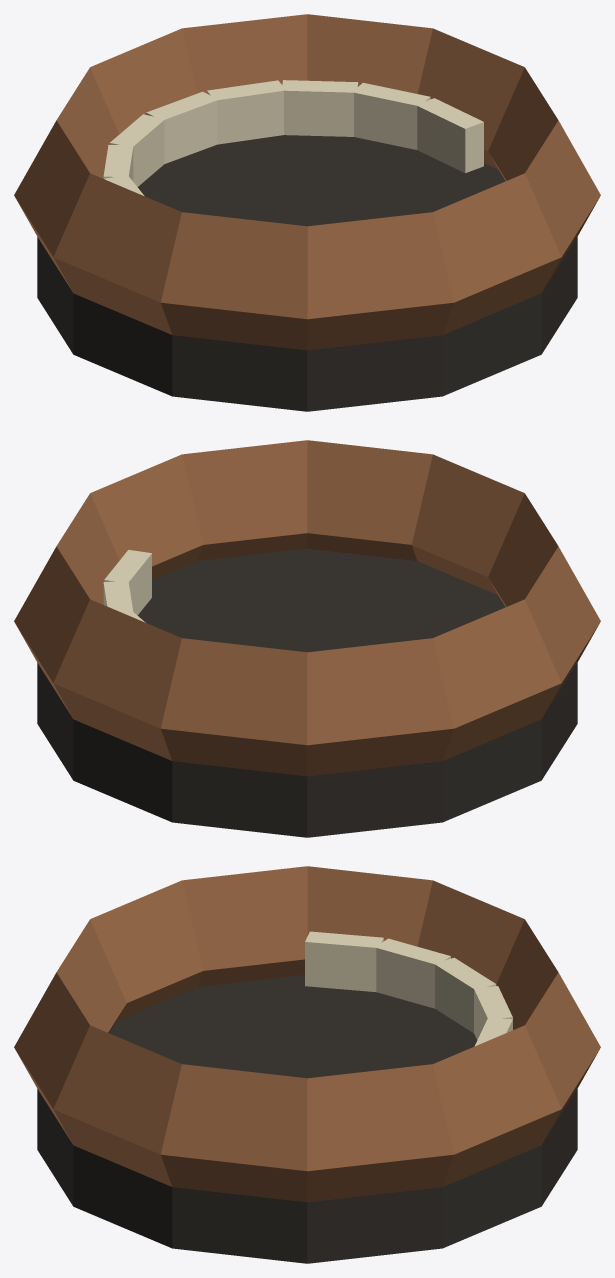
File: board_poco.glb
The picture shows the model from 3 angles, top to bottom: view 1: azimuth 30°, elevation 25°; view 2: azimuth 150°, elevation 25°; view 3: azimuth 270°, elevation 25°; orthographic projection.
Visible parts, largest first — view 1: board_poco; view 2: board_poco; view 3: board_poco.
Boxes of the visible parts, x1,y1,x2,y2 form: board_poco: (14, 14, 600, 411); board_poco: (14, 440, 600, 837); board_poco: (14, 866, 600, 1263).
Size of the model in its own units: 3 by 1 by 3.
